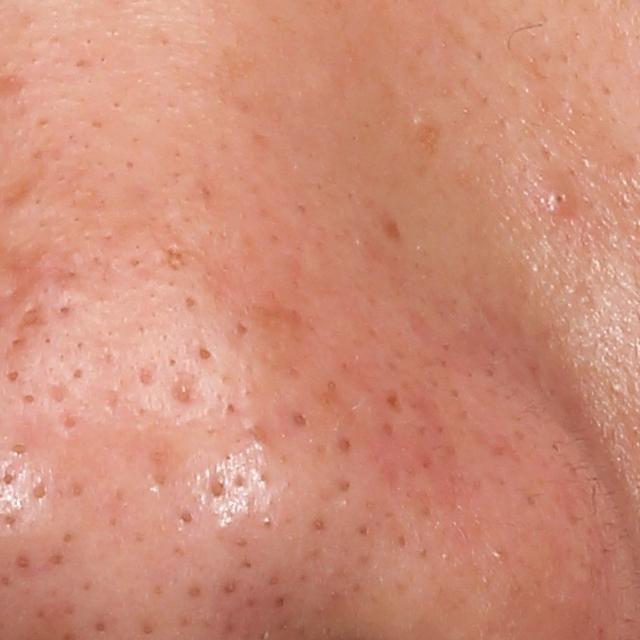comedo: (532, 175, 573, 224), (170, 379, 200, 411), (290, 409, 312, 431), (12, 552, 33, 573), (31, 478, 50, 501), (208, 478, 227, 500), (7, 443, 31, 460), (197, 342, 215, 364), (176, 508, 195, 526), (182, 295, 200, 314), (4, 369, 21, 386), (223, 399, 238, 416), (93, 620, 107, 635), (272, 595, 287, 609), (22, 392, 36, 405)
